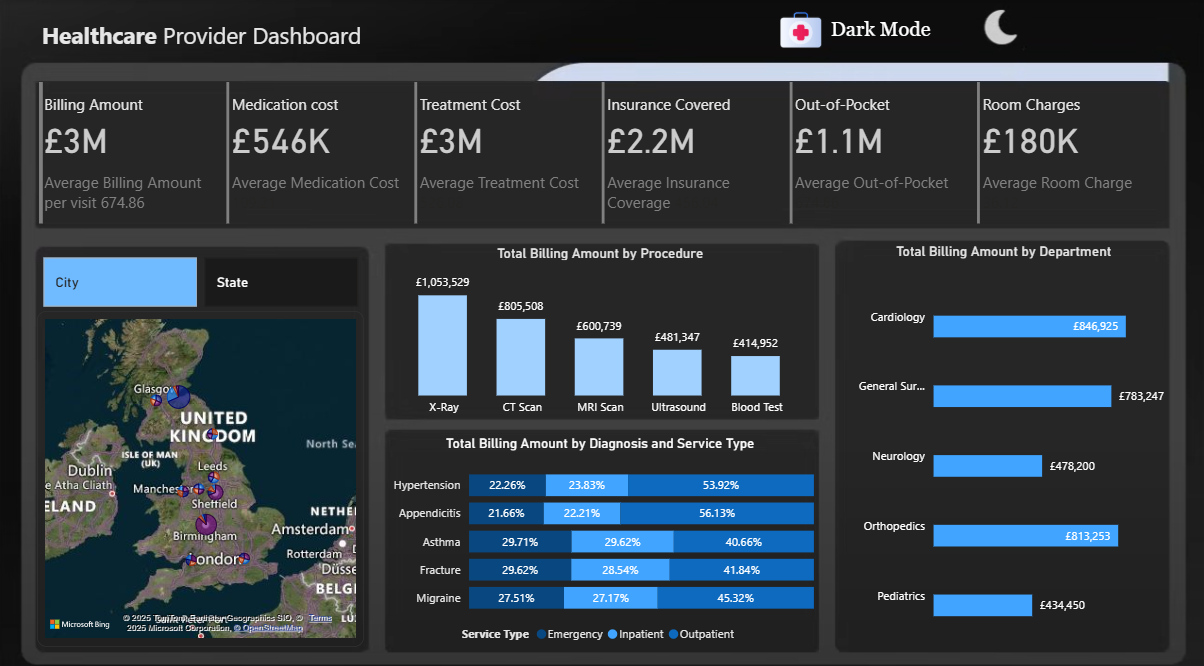

The page's visual inventory and layout, read from the dashboard file:
{"tool":"powerbi","page":{"name":"Dark","canvas":[1280,720],"ordinal":1},"visuals":[{"type":"cardVisual","fields":{"Data":["DAX Calculation.Total Billing Amount","DAX Calculation.Total Medication cost","DAX Calculation.Total Treatment Cost","DAX Calculation.Total Insurance Covered","DAX Calculation.Out-of-Pocket","DAX Calculation.Total Room Charges"]},"box":[38.2,82.7,1204.1,160.7],"z":0},{"type":"map","fields":{"Series":["cities.State"],"Category":["cities.City","cities.State"],"Size":["DAX Calculation.Total Billing Amount"]},"box":[41.4,330.8,346.8,356.3],"z":1000},{"type":"advancedSlicerVisual","fields":{"Values":["Patients Location Switch.Patients Location Switch"]},"box":[42.9,268.8,345.2,62],"z":2000},{"type":"clusteredColumnChart","title":"Total Billing Amount by Procedure","fields":{"Category":["procedures.Procedure"],"Y":["DAX Calculation.All Billing Amount"]},"box":[407.2,260.9,462.9,189.3],"z":3000},{"type":"hundredPercentStackedBarChart","fields":{"Category":["diagnoses.Diagnosis"],"Y":["DAX Calculation.Total Billing Amount"],"Series":["visits.Service Type"]},"box":[407.2,462.9,462.9,229],"z":4000},{"type":"clusteredBarChart","title":"Total Billing Amount by Department","fields":{"Category":["departments.Department"],"Y":["DAX Calculation.Blank Measure","DAX Calculation.Total Billing Amount"]},"box":[890.7,259.3,351.5,432.6],"z":5000},{"type":"textbox","box":[41.4,15.9,384.9,49.3],"z":6000},{"type":"image","box":[824.5,0,54.1,65.2],"z":7000},{"type":"textbox","box":[878.5,14.3,132,38.2],"z":7001}]}

Visuals, with their boxes in screenshot pixels (x1, y1, x2, y2), scaled from the page's 1280x720 canvas onto the 1204x666 screenshot:
cardVisual - DAX Calculation.Total Billing Amount x DAX Calculation.Total Medication cost: <box>36,76,1169,225</box>
map - cities.State x cities.City: <box>39,306,365,636</box>
advancedSlicerVisual - Patients Location Switch.Patients Location Switch: <box>40,249,365,306</box>
"Total Billing Amount by Procedure" clusteredColumnChart: <box>383,241,818,416</box>
hundredPercentStackedBarChart - diagnoses.Diagnosis x DAX Calculation.Total Billing Amount: <box>383,428,818,640</box>
"Total Billing Amount by Department" clusteredBarChart: <box>838,240,1168,640</box>
textbox: <box>39,15,401,60</box>
image: <box>776,0,826,60</box>
textbox: <box>826,13,951,49</box>
